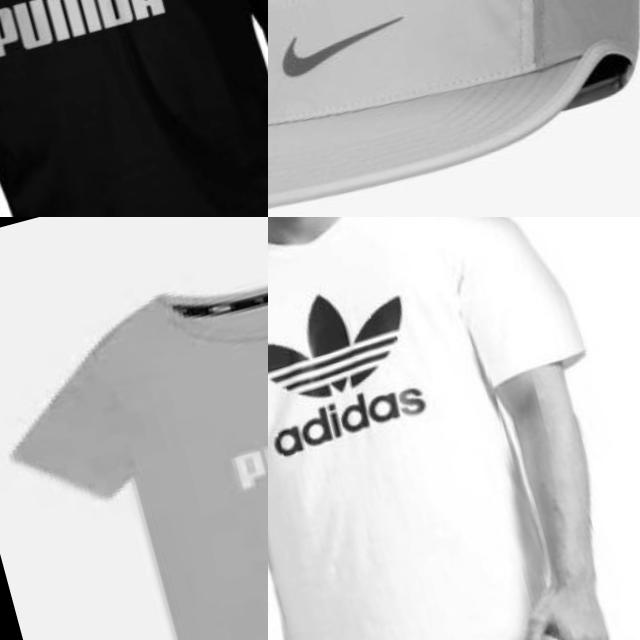ADIDAS_original: (268, 252, 463, 484), (268, 249, 440, 423), (268, 363, 451, 484)
NIKE_original: (268, 0, 423, 96)
PUMA_fake: (0, 0, 236, 84)
PUMA_original: (194, 352, 268, 519)
